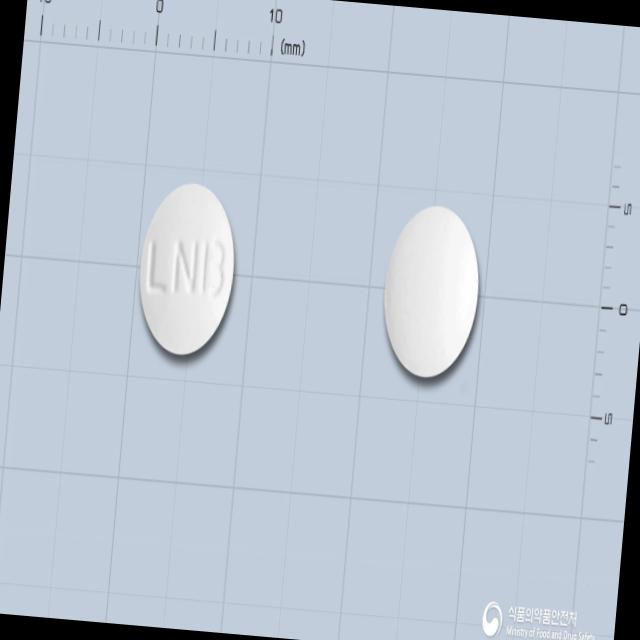Lenovo: (133, 176, 242, 360), (376, 200, 485, 382)
